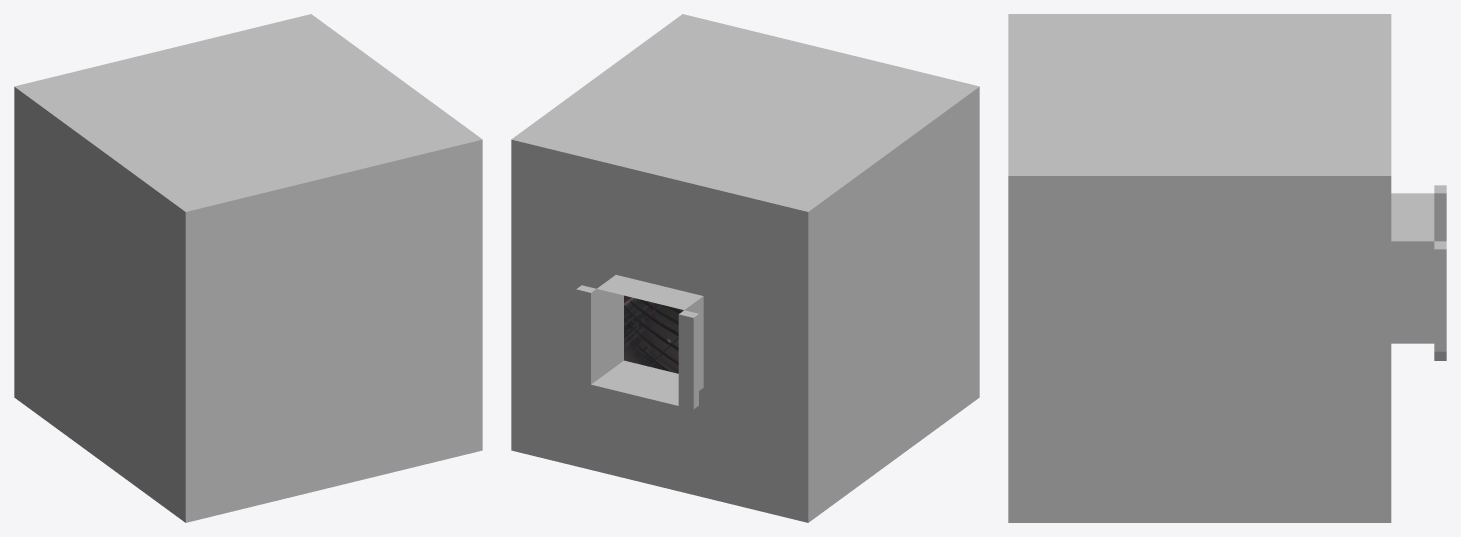
File: 360Pic_1.obj
3 views of the same model, side by side, from view 1: azimuth 30°, elevation 25°; view 2: azimuth 150°, elevation 25°; view 3: azimuth 270°, elevation 25° (orthographic). The views are drawn at different scales.
Visible parts, largest first — view 1: OcclusionCube_Cube.002; view 2: OcclusionCube_Cube.002, doorFrame_Cube.003, Sphere_Sphere.001; view 3: OcclusionCube_Cube.002, doorFrame_Cube.003.
Boxes of the visible parts, x1=… form: OcclusionCube_Cube.002: x1=14, y1=14, x2=482, y2=522; OcclusionCube_Cube.002: x1=511, y1=14, x2=979, y2=522; doorFrame_Cube.003: x1=576, y1=275, x2=703, y2=421; Sphere_Sphere.001: x1=624, y1=295, x2=683, y2=373; OcclusionCube_Cube.002: x1=1008, y1=14, x2=1391, y2=522; doorFrame_Cube.003: x1=1391, y1=185, x2=1446, y2=360.
Bounding box in the file's own units: 2 × 2 × 2.29.
2 materials, 1 textured.
